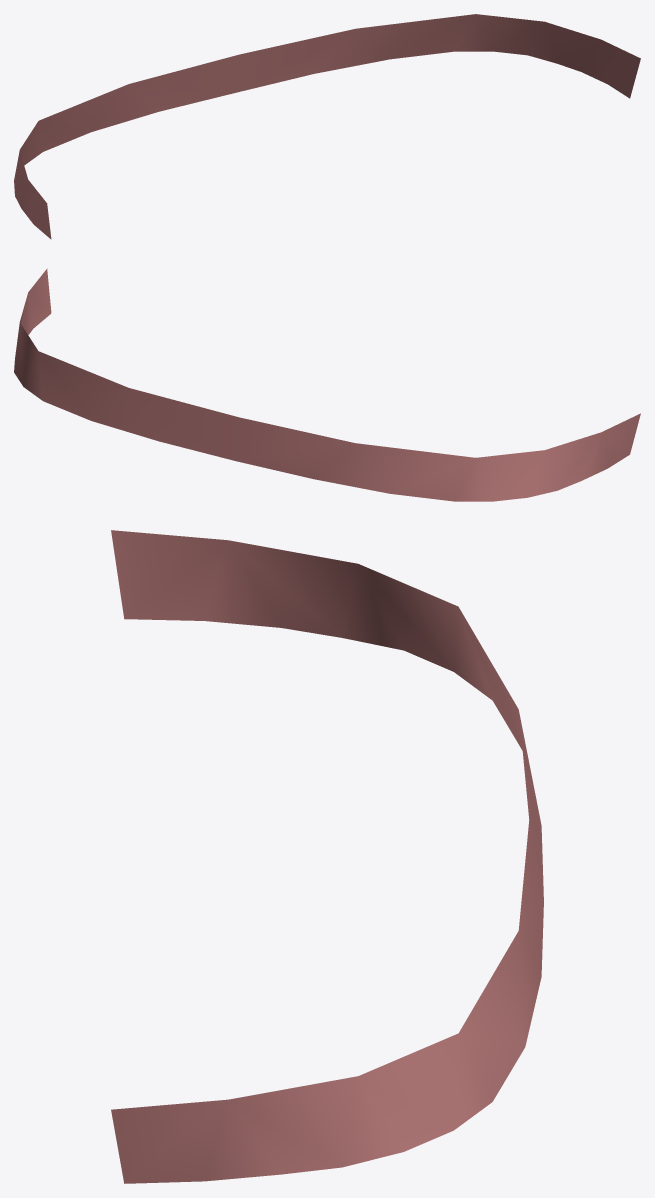
Rendered from MX5_RB03_Trim.fbx.
3 renders of one model, top to bottom at view 1: azimuth 30°, elevation 25°; view 2: azimuth 150°, elevation 25°; view 3: azimuth 270°, elevation 25°, orthographic. The views are drawn at different scales.
Parts seen in each view (by area): view 1: MX5_RB03_Trim; view 2: MX5_RB03_Trim; view 3: MX5_RB03_Trim.
Part boxes in pixels (x1,y1,x2,y2): MX5_RB03_Trim: (14, 14, 640, 239); MX5_RB03_Trim: (14, 268, 640, 501); MX5_RB03_Trim: (111, 530, 543, 1183).
Size of the model in its own units: 145 by 9.67 by 45.81.
